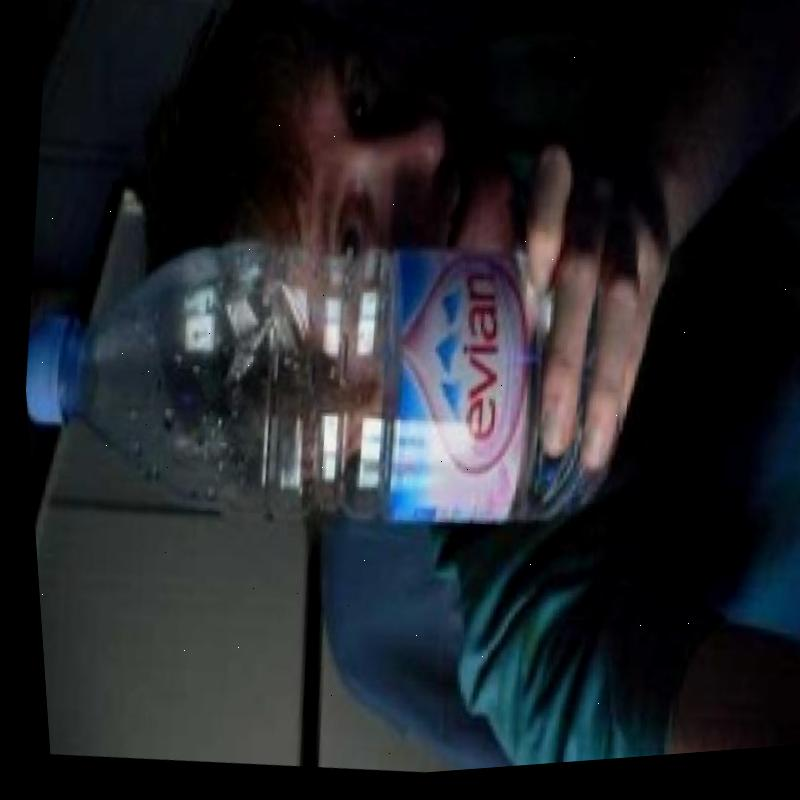botella: (12, 189, 629, 578)
